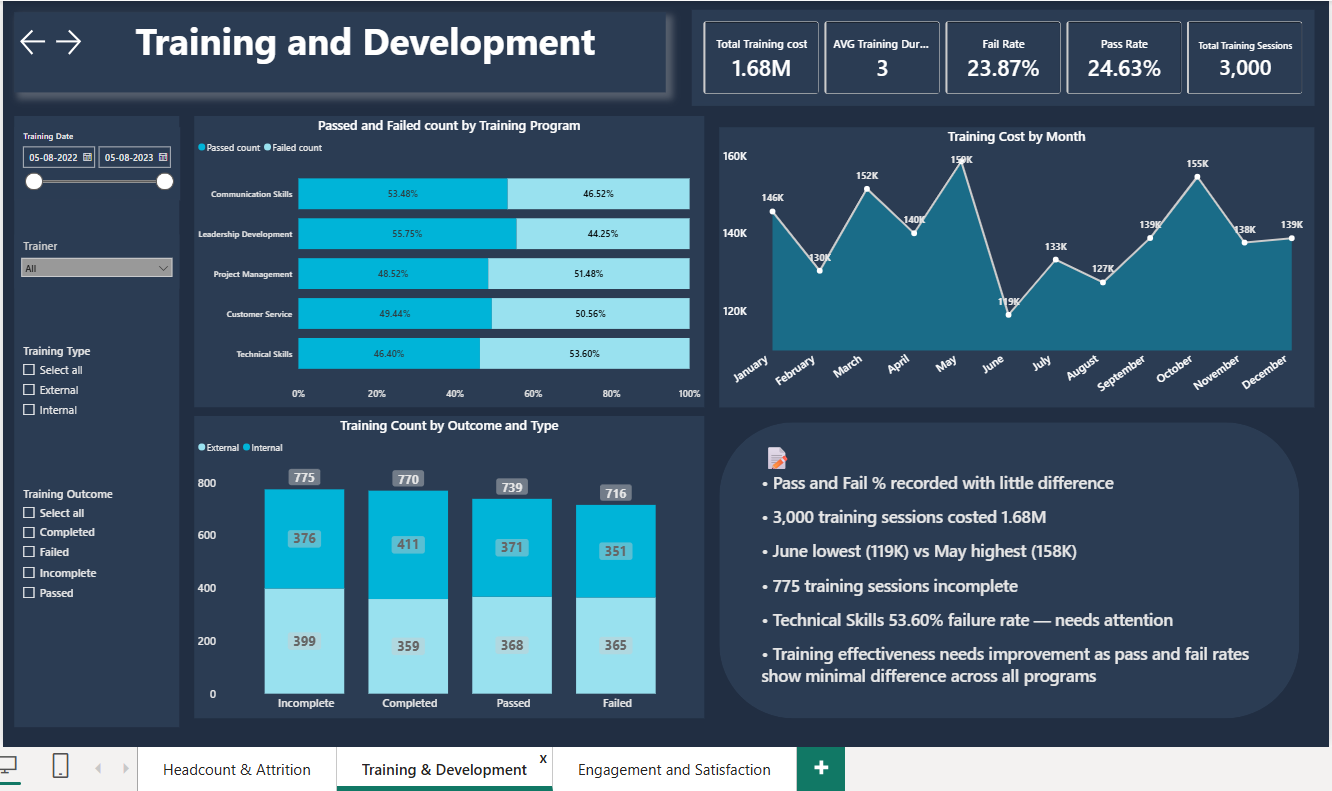

The dashboard page shown, as its layout file describes it:
{"tool":"powerbi","page":{"name":"Training & Development","canvas":[1920,1080],"ordinal":1},"visuals":[{"type":"cardVisual","fields":{"Data":["Measures (2).Total Training cost","Measures (2).AVG Training Duration Days","Measures (2).Failed%","Measures (2).Pass %","Measures (2).Total Training Sessions"]},"box":[997.1,12.7,901.2,139.3],"z":0},{"type":"textbox","box":[16.3,16.3,942.8,115.8],"z":1000},{"type":"lineChart","title":"Training Cost by Month","fields":{"Y":["Sum(HR data.Training Cost)"],"Category":["HR data.Training Date.Variation.Date Hierarchy.Month"]},"box":[1036.9,182.8,861.4,405.4],"z":2000},{"type":"hundredPercentStackedBarChart","title":"Passed  and Failed count by Training Program","fields":{"Category":["HR data.Training Program Name"],"Y":["Measures (2).Passed count","Measures (2).Failed count"]},"box":[276.9,166.5,738.3,421.7],"z":3000},{"type":"columnChart","title":"Training Count by Outcome and Type","fields":{"Category":["HR data.Training Outcome"],"Y":["Measures (2).Total Employees"],"Series":["HR data.Training Type"]},"box":[276.9,600.8,738.3,437.9],"z":4000},{"type":"shape","box":[16.3,166.5,238.9,884.9],"z":5000},{"type":"slicer","fields":{"Values":["HR data.Training Date"]},"box":[16.3,182.8,238.9,105],"z":6000},{"type":"slicer","fields":{"Values":["HR data.Trainer"]},"box":[16.3,338.4,238.9,77.8],"z":7000},{"type":"slicer","fields":{"Values":["HR data.Training Type"]},"box":[16.3,490.4,238.9,143],"z":8000},{"type":"slicer","fields":{"Values":["HR data.Training Outcome"]},"box":[16.3,696.7,181,184.6],"z":9000},{"type":"shape","box":[1036.9,609.9,839.7,428.9],"z":10000},{"type":"textbox","box":[1093,633.4,727.5,385.5],"z":11000},{"type":"actionButton","box":[16.3,36.2,54.3,47.1],"z":11001},{"type":"actionButton","box":[70.6,36.2,65.1,47.1],"z":11002}]}

Visuals, with their boxes on the page's 1920x1080 design canvas (x1, y1, x2, y2). These are canvas units, not pixel positions in the 1332x791 screenshot, which may show the page scaled, cropped or inside an application window:
cardVisual - Measures (2).Total Training cost x Measures (2).AVG Training Duration Days: <bbox>997, 13, 1898, 152</bbox>
textbox: <bbox>16, 16, 959, 132</bbox>
"Training Cost by Month" lineChart: <bbox>1037, 183, 1898, 588</bbox>
"Passed  and Failed count by Training Program" hundredPercentStackedBarChart: <bbox>277, 166, 1015, 588</bbox>
"Training Count by Outcome and Type" columnChart: <bbox>277, 601, 1015, 1039</bbox>
shape: <bbox>16, 166, 255, 1051</bbox>
slicer - HR data.Training Date: <bbox>16, 183, 255, 288</bbox>
slicer - HR data.Trainer: <bbox>16, 338, 255, 416</bbox>
slicer - HR data.Training Type: <bbox>16, 490, 255, 633</bbox>
slicer - HR data.Training Outcome: <bbox>16, 697, 197, 881</bbox>
shape: <bbox>1037, 610, 1877, 1039</bbox>
textbox: <bbox>1093, 633, 1820, 1019</bbox>
actionButton: <bbox>16, 36, 71, 83</bbox>
actionButton: <bbox>71, 36, 136, 83</bbox>
